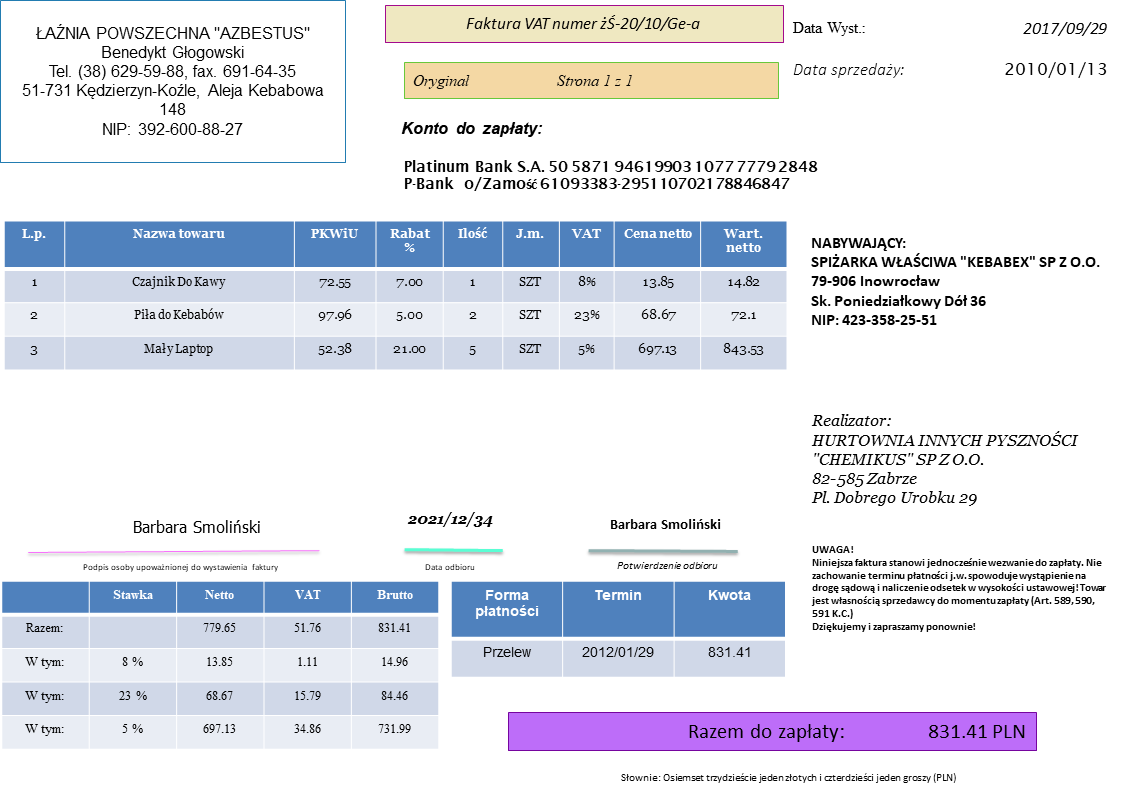Table: (3, 220, 788, 371), (1, 580, 440, 749), (450, 579, 787, 679)
TextBox: (19, 20, 326, 139), (809, 235, 1102, 329), (810, 543, 1108, 635), (809, 410, 1081, 507), (401, 156, 821, 193), (685, 720, 1028, 744), (617, 770, 960, 787), (410, 71, 636, 92), (463, 14, 703, 32), (399, 117, 546, 140), (80, 560, 281, 574), (131, 516, 263, 536), (790, 60, 906, 80), (1003, 59, 1107, 81), (406, 509, 495, 532), (607, 516, 723, 532), (1020, 18, 1108, 38), (790, 18, 866, 39), (614, 559, 718, 572), (423, 561, 476, 572)
